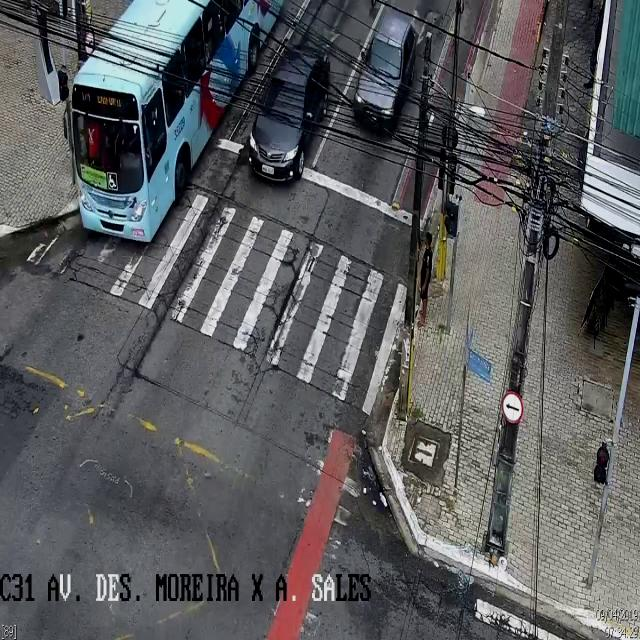Bus: (69, 0, 285, 244)
Car: (248, 47, 330, 181), (354, 8, 418, 132)
